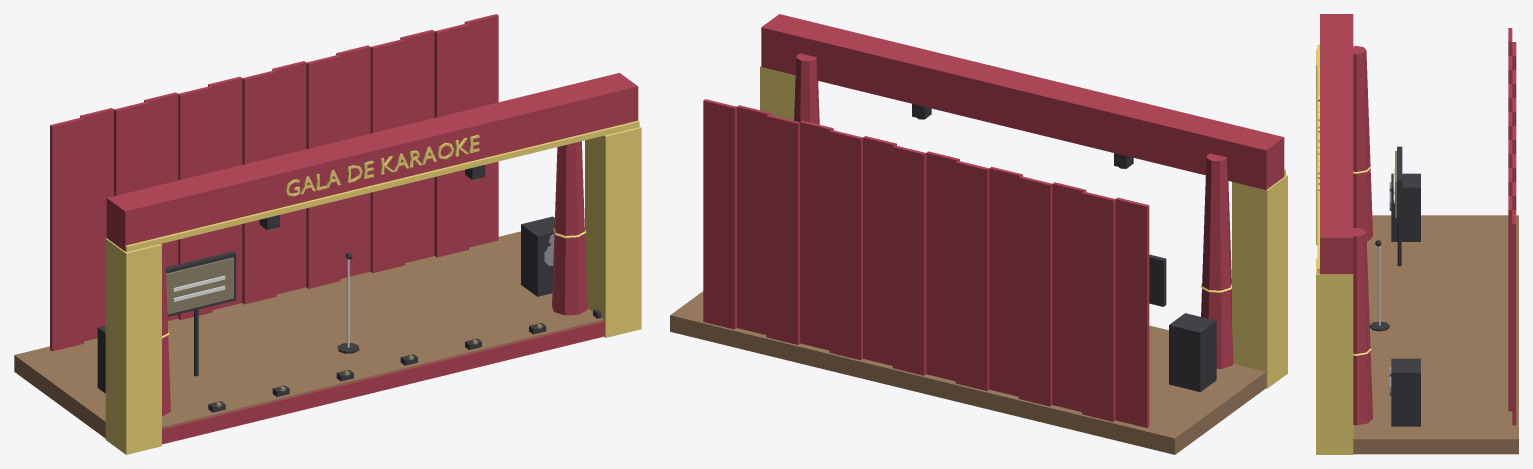
Rendered from CR_Escenario.fbx.
The picture shows the model from 3 angles, left to right: view 1: azimuth 30°, elevation 25°; view 2: azimuth 150°, elevation 25°; view 3: azimuth 270°, elevation 25°; orthographic projection. The views are drawn at different scales.
Parts seen in each view (by area): view 1: CR_Escenario; view 2: CR_Escenario; view 3: CR_Escenario.
Boxes of the visible parts, left/top/right/bottom form: CR_Escenario: left=14, top=14, right=641, bottom=454; CR_Escenario: left=670, top=14, right=1287, bottom=454; CR_Escenario: left=1316, top=14, right=1518, bottom=454.
Bounding box in the file's own units: 8.04 × 3.6 × 3.06.
